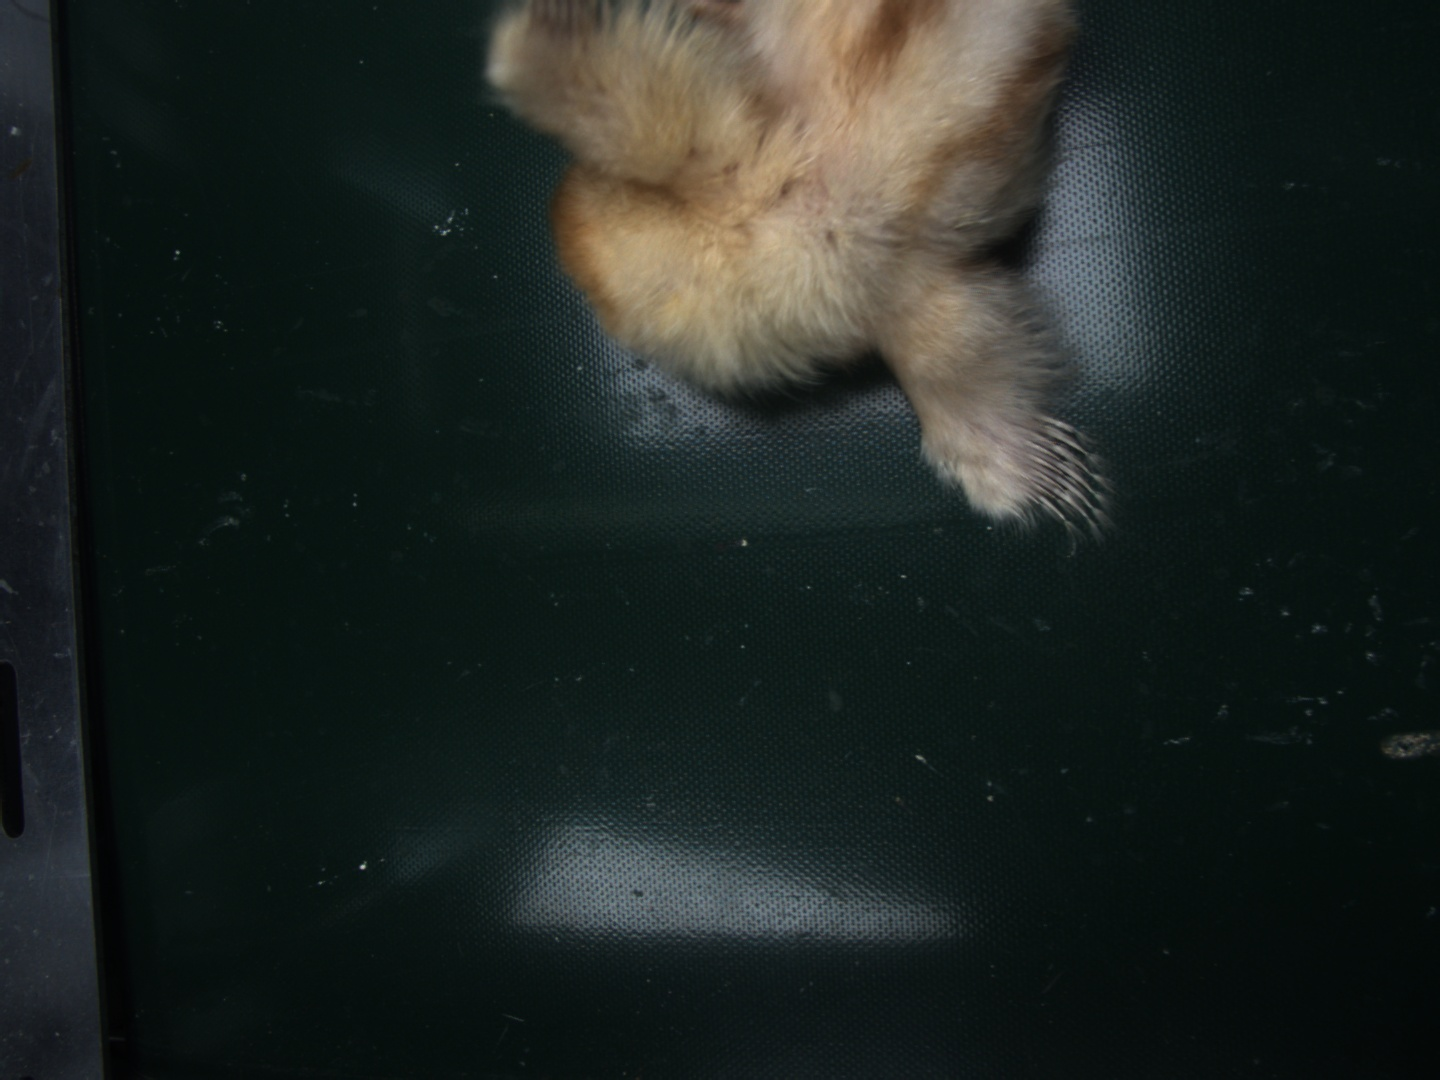female: (1015, 410, 1094, 518)
